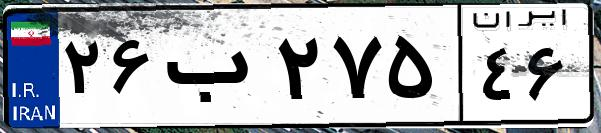2: (270, 28, 330, 110), (57, 26, 110, 100)
4: (475, 38, 525, 113)
5: (385, 28, 445, 110)
6: (525, 38, 570, 115), (110, 28, 158, 98)
7: (330, 28, 385, 110)
ب: (158, 20, 270, 120)
